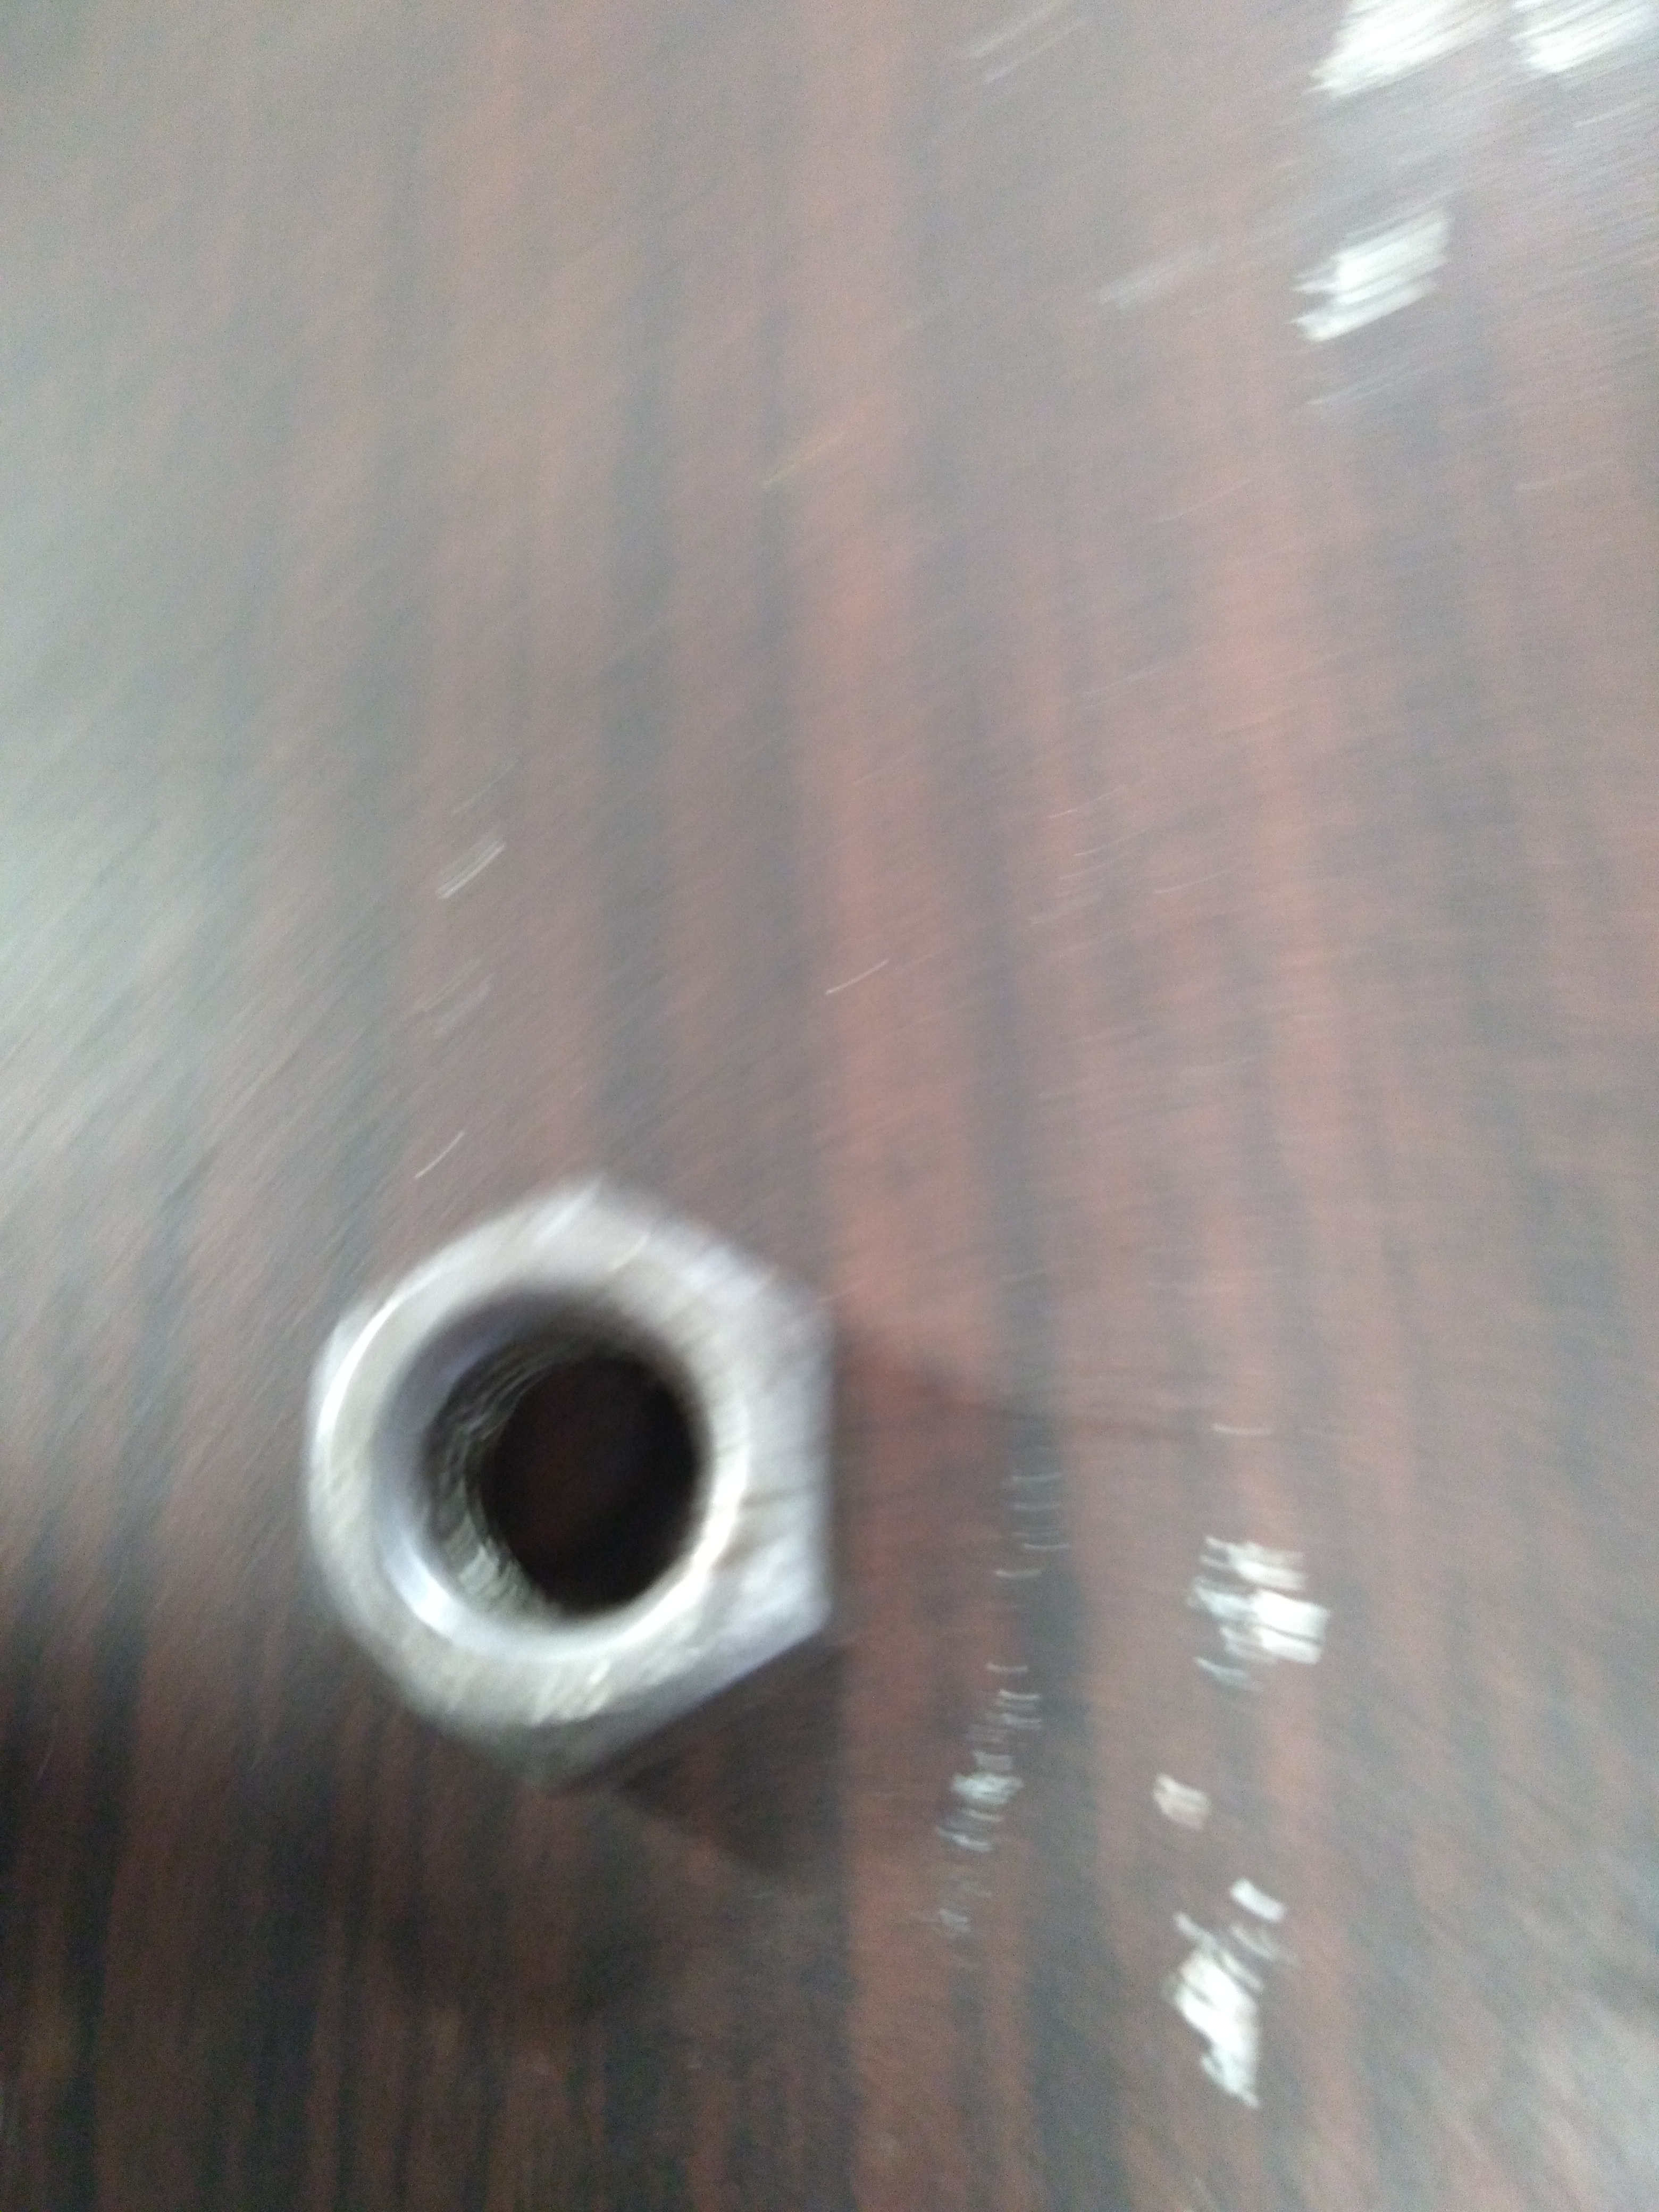Thread: (366, 1298, 777, 1662)
